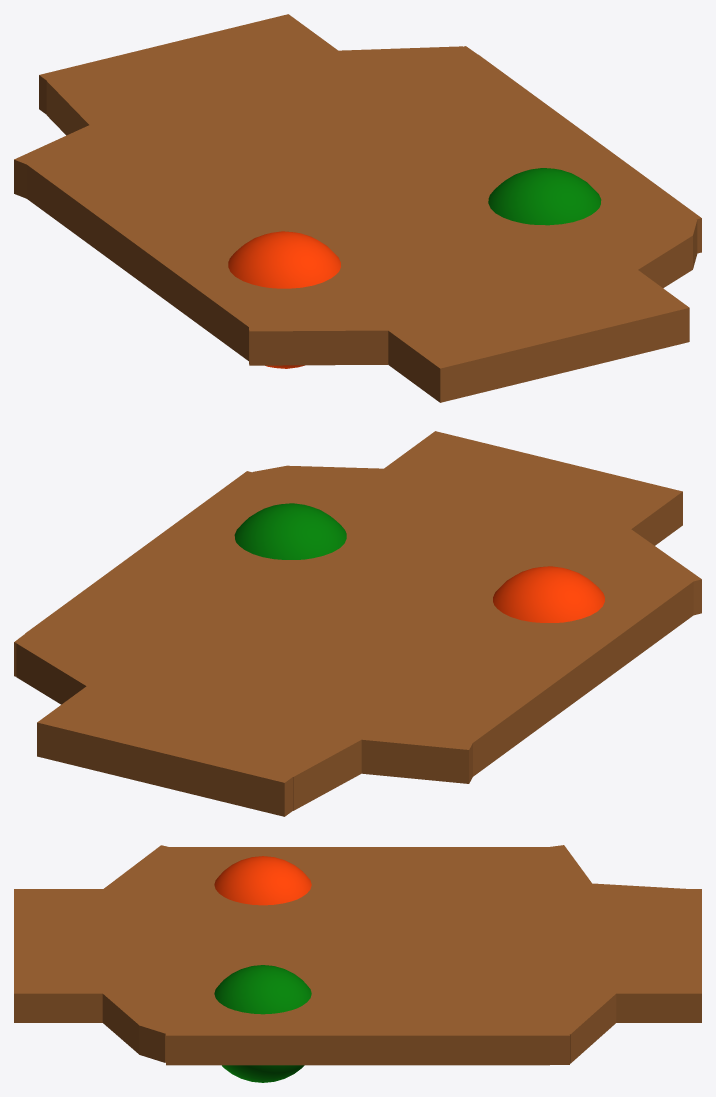
File: BookFilling.fbx
3 renders of one model, top to bottom at view 1: azimuth 30°, elevation 25°; view 2: azimuth 150°, elevation 25°; view 3: azimuth 270°, elevation 25°, orthographic. The views are drawn at different scales.
Visible parts, largest first — view 1: Cube, Cube (1), Cube (2), Cube (7), Cube (5), LavaSphere, NatureSphere, Cube (3), Cube (6); view 2: Cube, Cube (1), Cube (7), Cube (6), Cube (2), Cube (5), NatureSphere, LavaSphere, Cube (3); view 3: Cube, Cube (1), NatureSphere, LavaSphere, Cube (5), Cube (2), Cube (3), Cube (7), Cube (4), Cube (8), Cube (6).
Boxes of the visible parts, x1,y1,x2,y2 form: Cube: [39, 14, 689, 402]; Cube (1): [26, 54, 701, 360]; Cube (2): [248, 281, 402, 365]; Cube (7): [14, 102, 172, 198]; Cube (5): [277, 46, 471, 100]; LavaSphere: [228, 231, 340, 368]; NatureSphere: [488, 168, 601, 225]; Cube (3): [493, 219, 692, 288]; Cube (6): [46, 63, 168, 137]; Cube: [37, 431, 682, 816]; Cube (1): [25, 471, 694, 776]; Cube (7): [290, 685, 493, 783]; Cube (6): [204, 686, 403, 810]; Cube (2): [525, 524, 701, 615]; Cube (5): [16, 628, 199, 706]; NatureSphere: [234, 503, 346, 559]; LavaSphere: [493, 566, 604, 622]; Cube (3): [280, 465, 469, 519]; Cube: [14, 889, 701, 1022]; Cube (1): [166, 847, 549, 1065]; NatureSphere: [214, 965, 311, 1082]; LavaSphere: [214, 856, 311, 905]; Cube (5): [484, 956, 616, 1063]; Cube (2): [98, 845, 235, 899]; Cube (3): [102, 993, 165, 1054]; Cube (7): [471, 845, 594, 888]; Cube (4): [139, 1015, 174, 1062]; Cube (8): [550, 1022, 569, 1064]; Cube (6): [526, 880, 685, 927].
Bounding box in the file's own units: 45.56 × 11.94 × 69.44.
